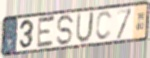3: (18, 18, 36, 50)
7: (116, 7, 132, 40)
C: (94, 10, 114, 42)
E: (36, 15, 56, 50)
S: (56, 13, 76, 47)
U: (75, 11, 95, 44)
